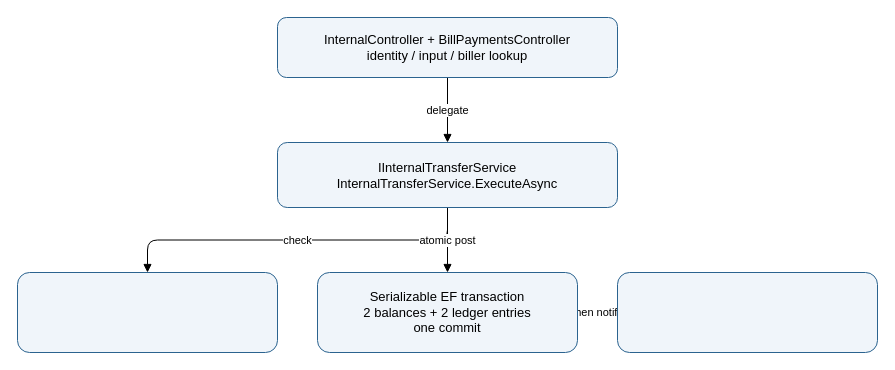
Some shapes in this 895 by 370 pixel diagram are drawn without their labels. Here are the shapes that lost their labels. From the top down, the box of each, then its label:
(16, 272, 278, 352): Transfer risk checks Positive -> Funds -> HighValue short-circuit on rejection
(616, 272, 878, 352): After commit IEmailSender notification no durable outbox
